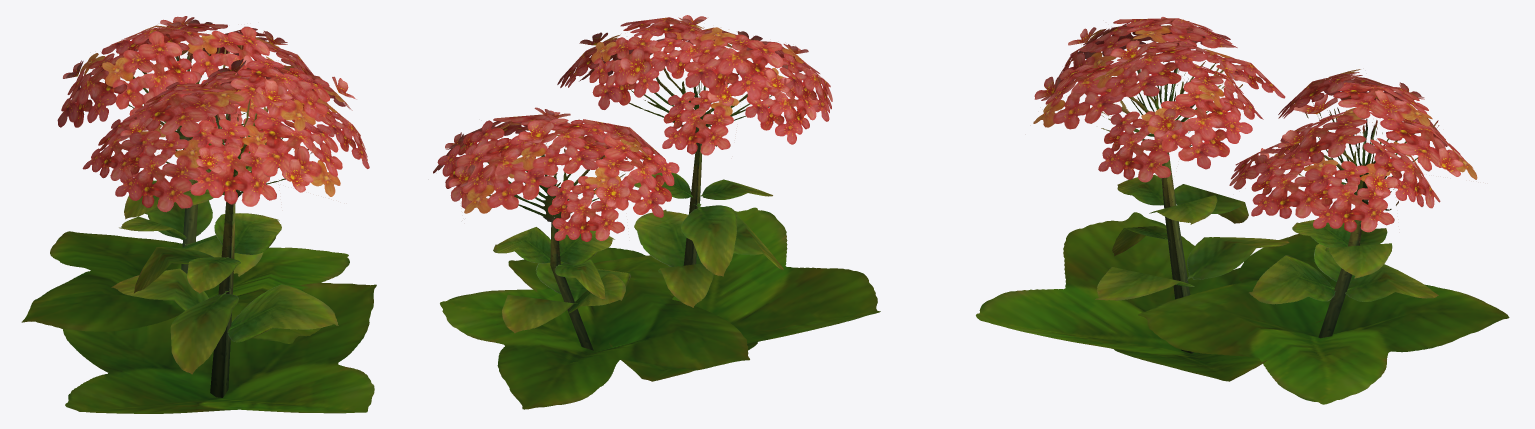
File: wm_龙船花01.fbx
The picture shows the model from 3 angles, left to right: view 1: azimuth 30°, elevation 25°; view 2: azimuth 150°, elevation 25°; view 3: azimuth 270°, elevation 25°; orthographic projection. The views are drawn at different scales.
Parts seen in each view (by area): view 1: wm_龙船花01; view 2: wm_龙船花01; view 3: wm_龙船花01.
Part boxes in pixels (<box>): wm_龙船花01: <box>21,16,376,413</box>; wm_龙船花01: <box>433,15,880,409</box>; wm_龙船花01: <box>976,17,1509,404</box>.
Bounding box in the file's own units: 196 × 148 × 236.
